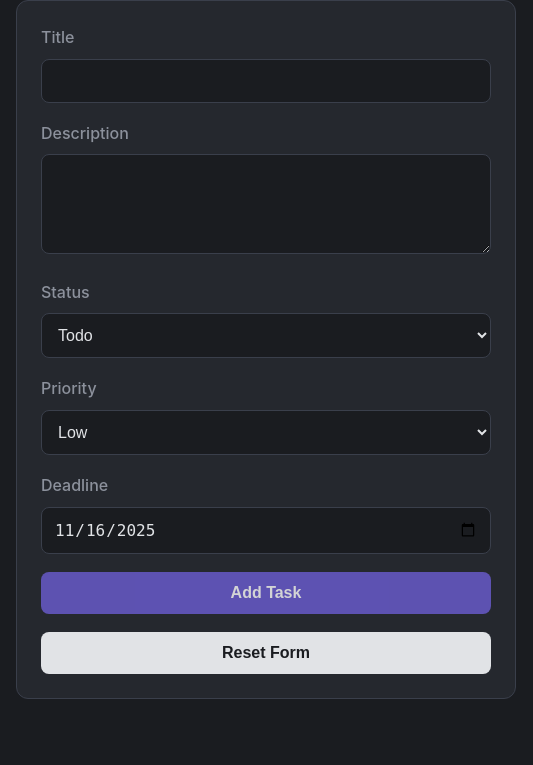
Scenario: CreateTaskForm › should show validation messages
Step 1. Type "M" into the field labelled "Title" → (266,81), box [41,59,491,103]
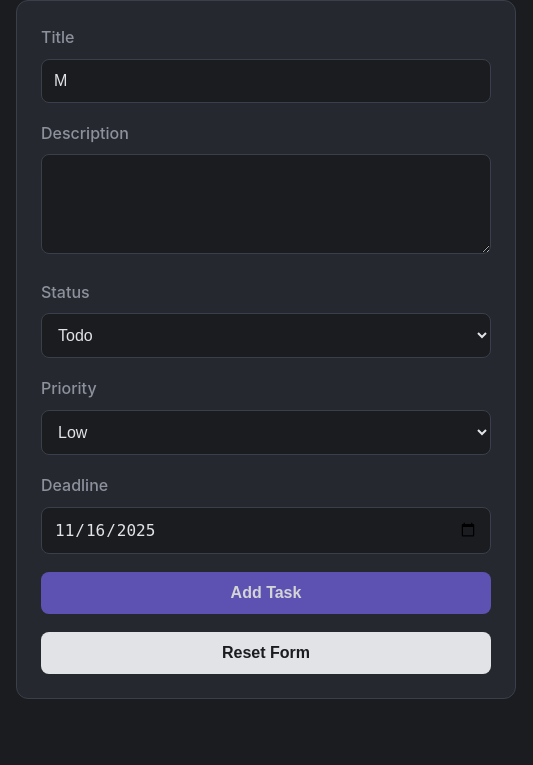
Step 2. Type "Not valid" into the text box labelled "Description" → (266,204), box [41,154,491,254]
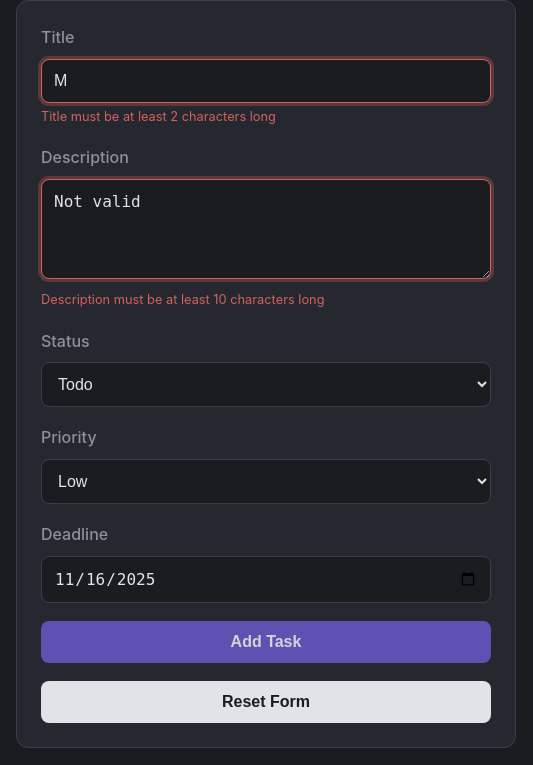
Now the text "Title must be at least 2 characters long" is shown, box [41,109,276,124]
Now the text "Description must be at least 10 characters long" is shown, box [41,292,324,307]
